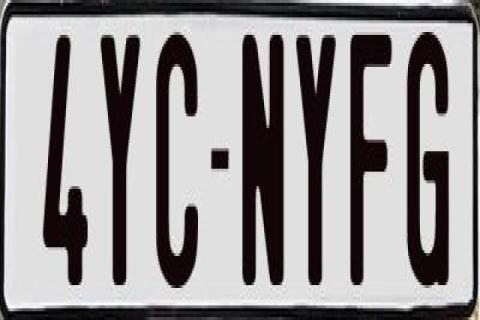0: (42, 32, 86, 296)
C: (152, 26, 198, 300)
F: (348, 29, 391, 297)
G: (406, 23, 454, 297)
N: (242, 32, 284, 300)
Y: (296, 29, 342, 285), (98, 35, 140, 297)
